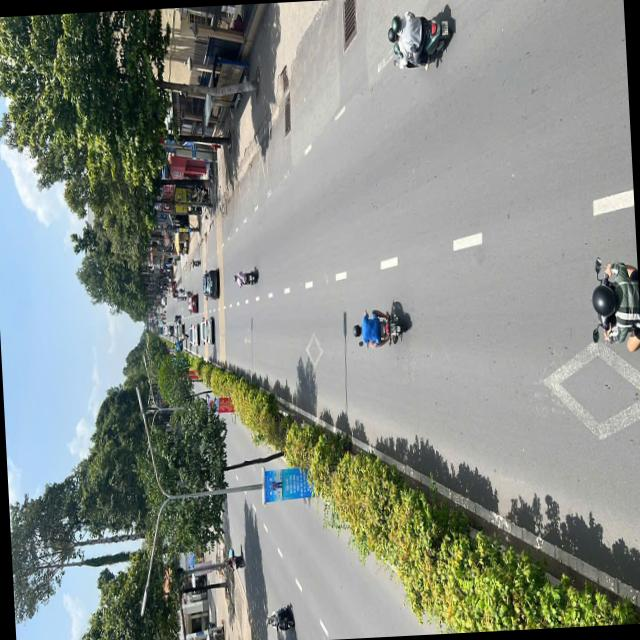car: (197, 263, 223, 302), (196, 313, 218, 348), (184, 320, 201, 349), (181, 292, 200, 314)
motobyte: (383, 0, 458, 74), (350, 301, 412, 354), (260, 598, 298, 637), (232, 264, 262, 290), (222, 548, 248, 576), (186, 252, 205, 270)
